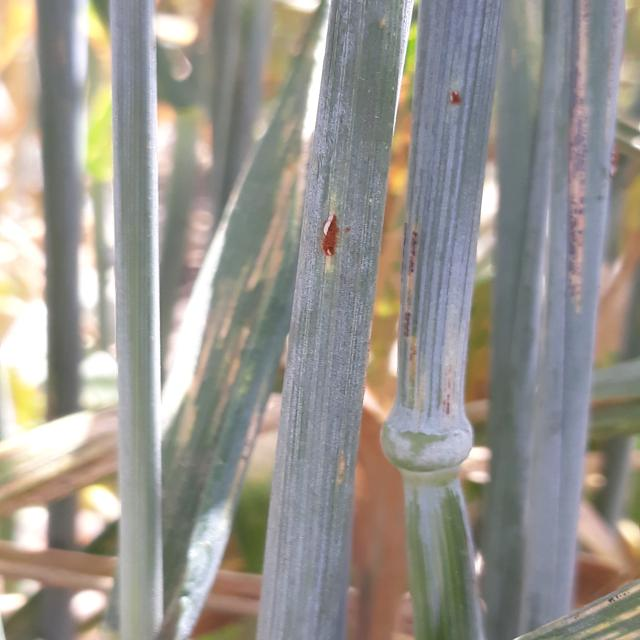black_stem_rust: (364, 34, 511, 456), (277, 11, 397, 479), (521, 9, 624, 430)
